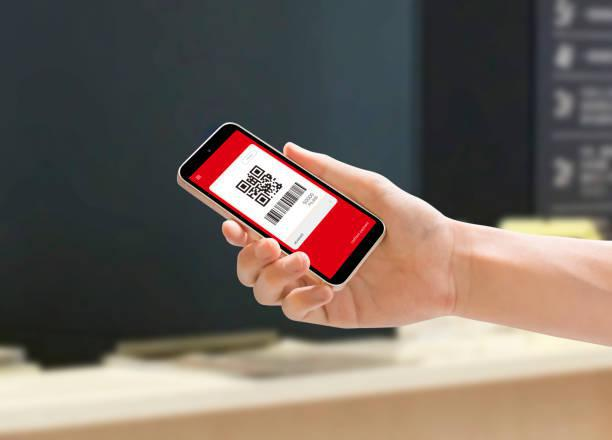Finder pattern: (254, 191, 271, 208), (234, 179, 253, 194), (247, 163, 265, 178)
